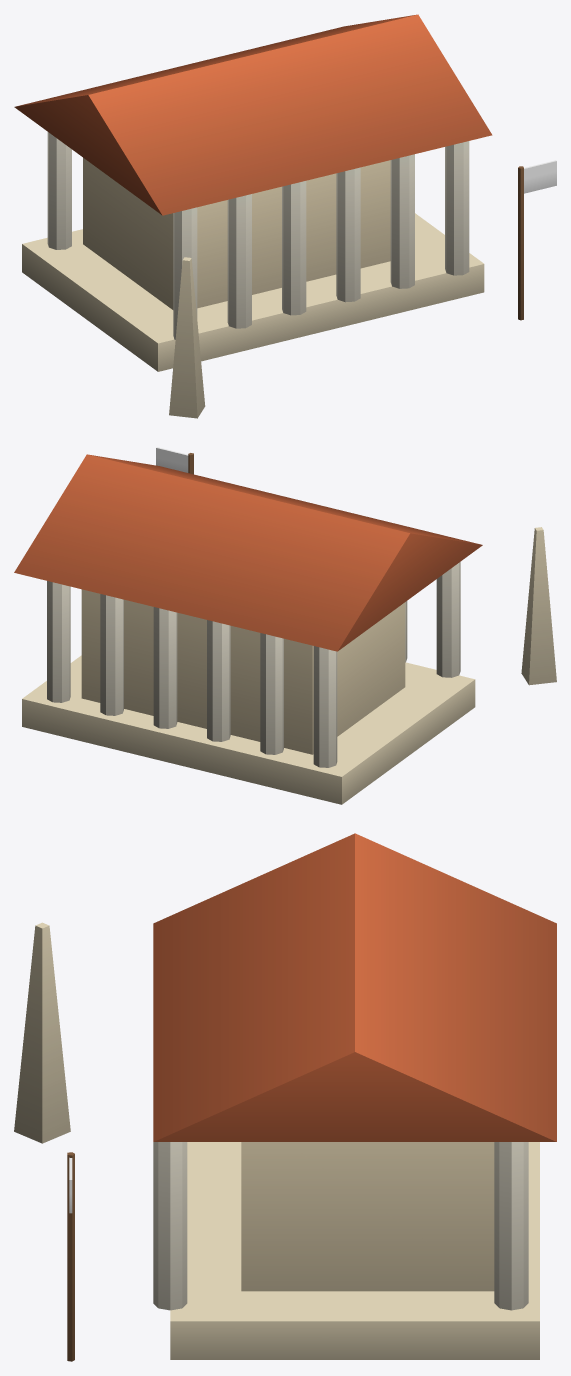
File: BASE_CARTH.glb
3 views of the same model, one above another, from view 1: azimuth 30°, elevation 25°; view 2: azimuth 150°, elevation 25°; view 3: azimuth 270°, elevation 25° (orthographic). The views are drawn at different scales.
Parts seen in each view (by area): view 1: Body, Flag; view 2: Body, Flag; view 3: Body.
Boxes of the visible parts, x1=… form: Body: x1=14, y1=14, x2=523, y2=418; Flag: x1=524, y1=160, x2=556, y2=193; Body: x1=14, y1=453, x2=556, y2=804; Flag: x1=156, y1=447, x2=188, y2=472; Body: x1=14, y1=833, x2=556, y2=1361.
Size of the model in its own units: 4.39 by 2.4 by 3.82.
Materials: 1 (1 with a texture image).
